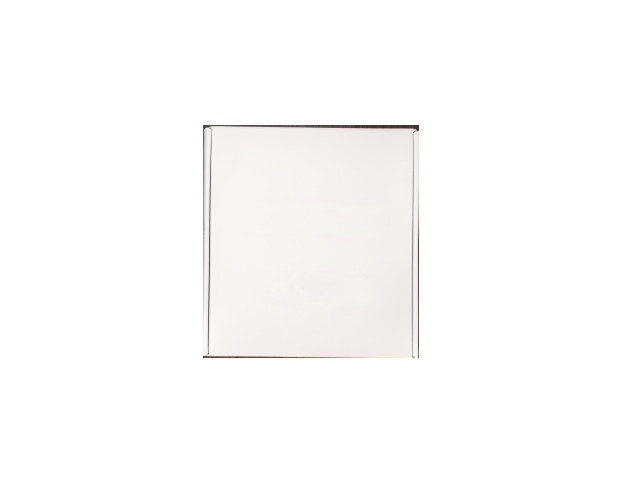cardboard: (205, 126, 416, 355)
